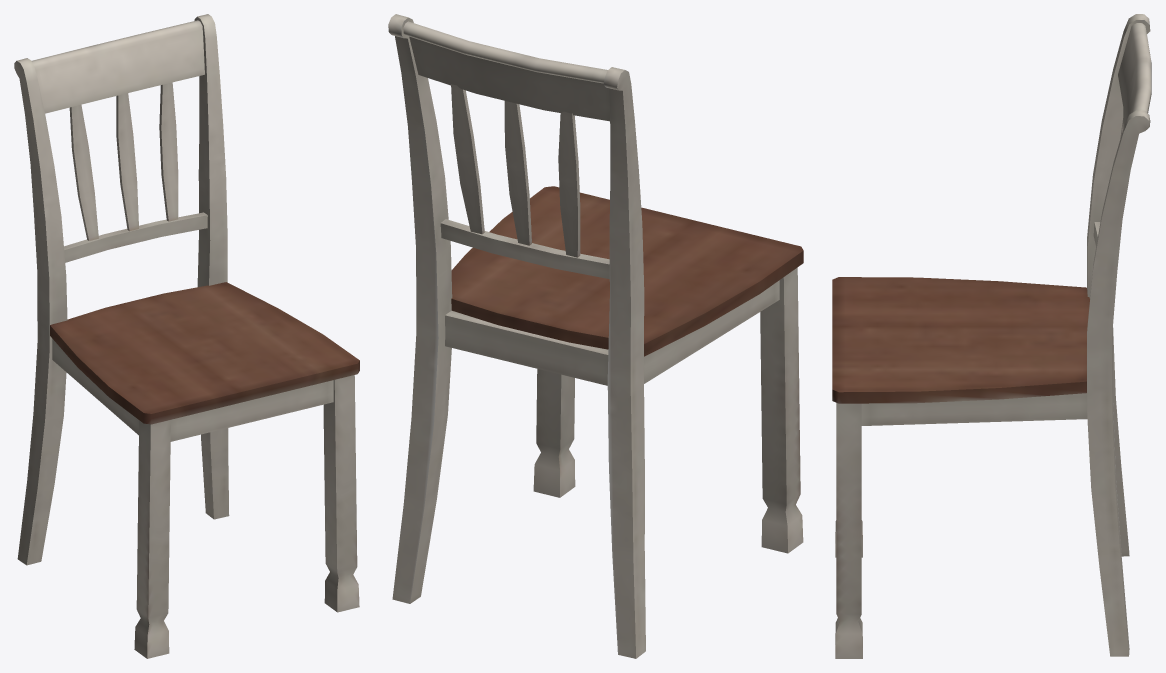
Rendered from KitchenChair_Wooden.FBX.
3 renders of one model, left to right at view 1: azimuth 30°, elevation 25°; view 2: azimuth 150°, elevation 25°; view 3: azimuth 270°, elevation 25°, orthographic. The views are drawn at different scales.
Visible parts, largest first — view 1: KitchenChair_Wooden; view 2: KitchenChair_Wooden; view 3: KitchenChair_Wooden.
Part boxes in pixels (x1=…): KitchenChair_Wooden: x1=14, y1=14, x2=359, y2=658; KitchenChair_Wooden: x1=388, y1=14, x2=803, y2=658; KitchenChair_Wooden: x1=832, y1=14, x2=1151, y2=658.
Size of the model in its own units: 42.97 by 93.54 by 50.33.
